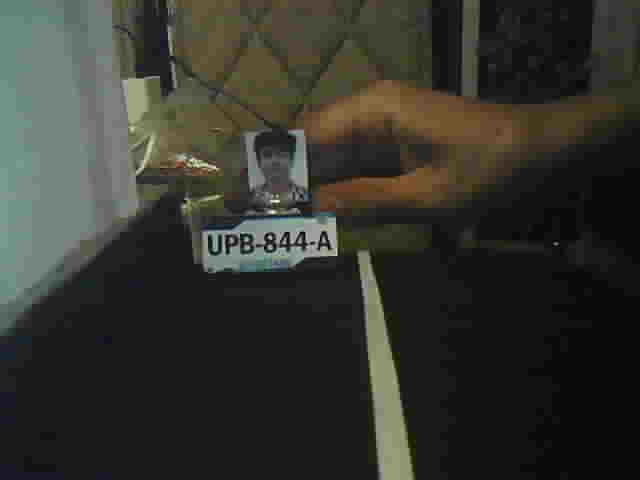PLACA: (198, 211, 340, 277)
ROSTRO: (248, 131, 310, 201)
